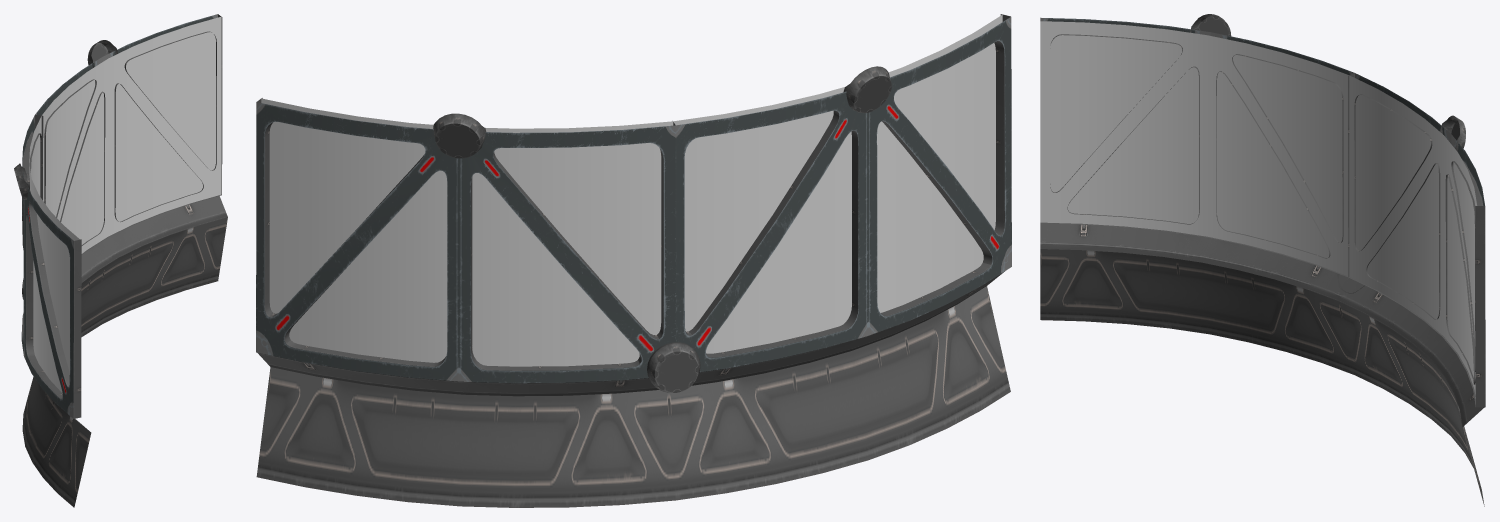
The model's file is WallWindow_Corner_Round_Outer.gltf.
3 renders of one model, left to right at view 1: azimuth 30°, elevation 25°; view 2: azimuth 150°, elevation 25°; view 3: azimuth 270°, elevation 25°, orthographic. The views are drawn at different scales.
Visible parts, largest first — view 1: WallWindow_Corner_Round_Outer; view 2: WallWindow_Corner_Round_Outer; view 3: WallWindow_Corner_Round_Outer.
Boxes of the visible parts, left/top/right/bottom form: WallWindow_Corner_Round_Outer: left=14, top=14, right=227, bottom=507; WallWindow_Corner_Round_Outer: left=256, top=14, right=1011, bottom=507; WallWindow_Corner_Round_Outer: left=1040, top=14, right=1485, bottom=506.
Bounding box in the file's own units: 4.01 × 3.16 × 4.01.
Materials: 4 (3 with a texture image).
